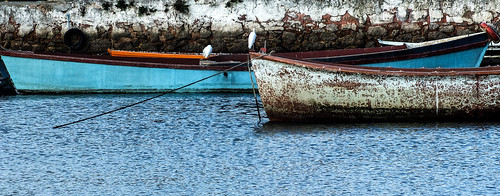boat: (3, 37, 490, 101), (248, 43, 500, 144)
river: (8, 101, 500, 196)
